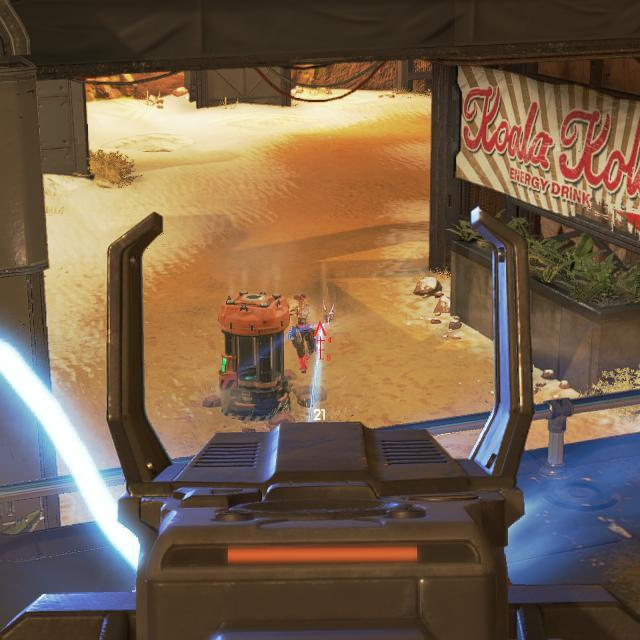avatar: (288, 292, 318, 374)
